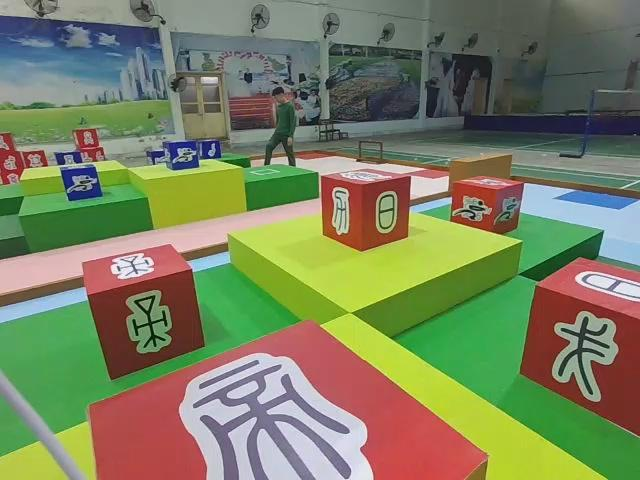R1: (449, 173, 526, 235)
R2 Fake: (87, 315, 491, 480), (517, 253, 640, 442), (317, 165, 413, 253)
R2 Real: (79, 241, 207, 381)
